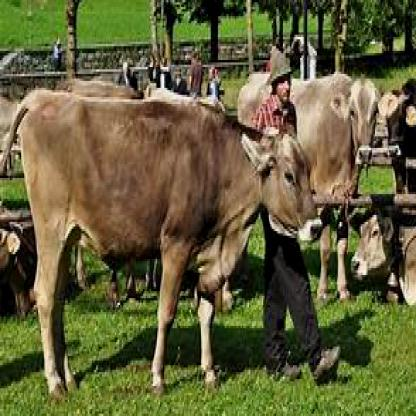cow: (0, 90, 324, 395), (238, 74, 396, 300), (351, 208, 414, 307), (384, 76, 414, 199)
